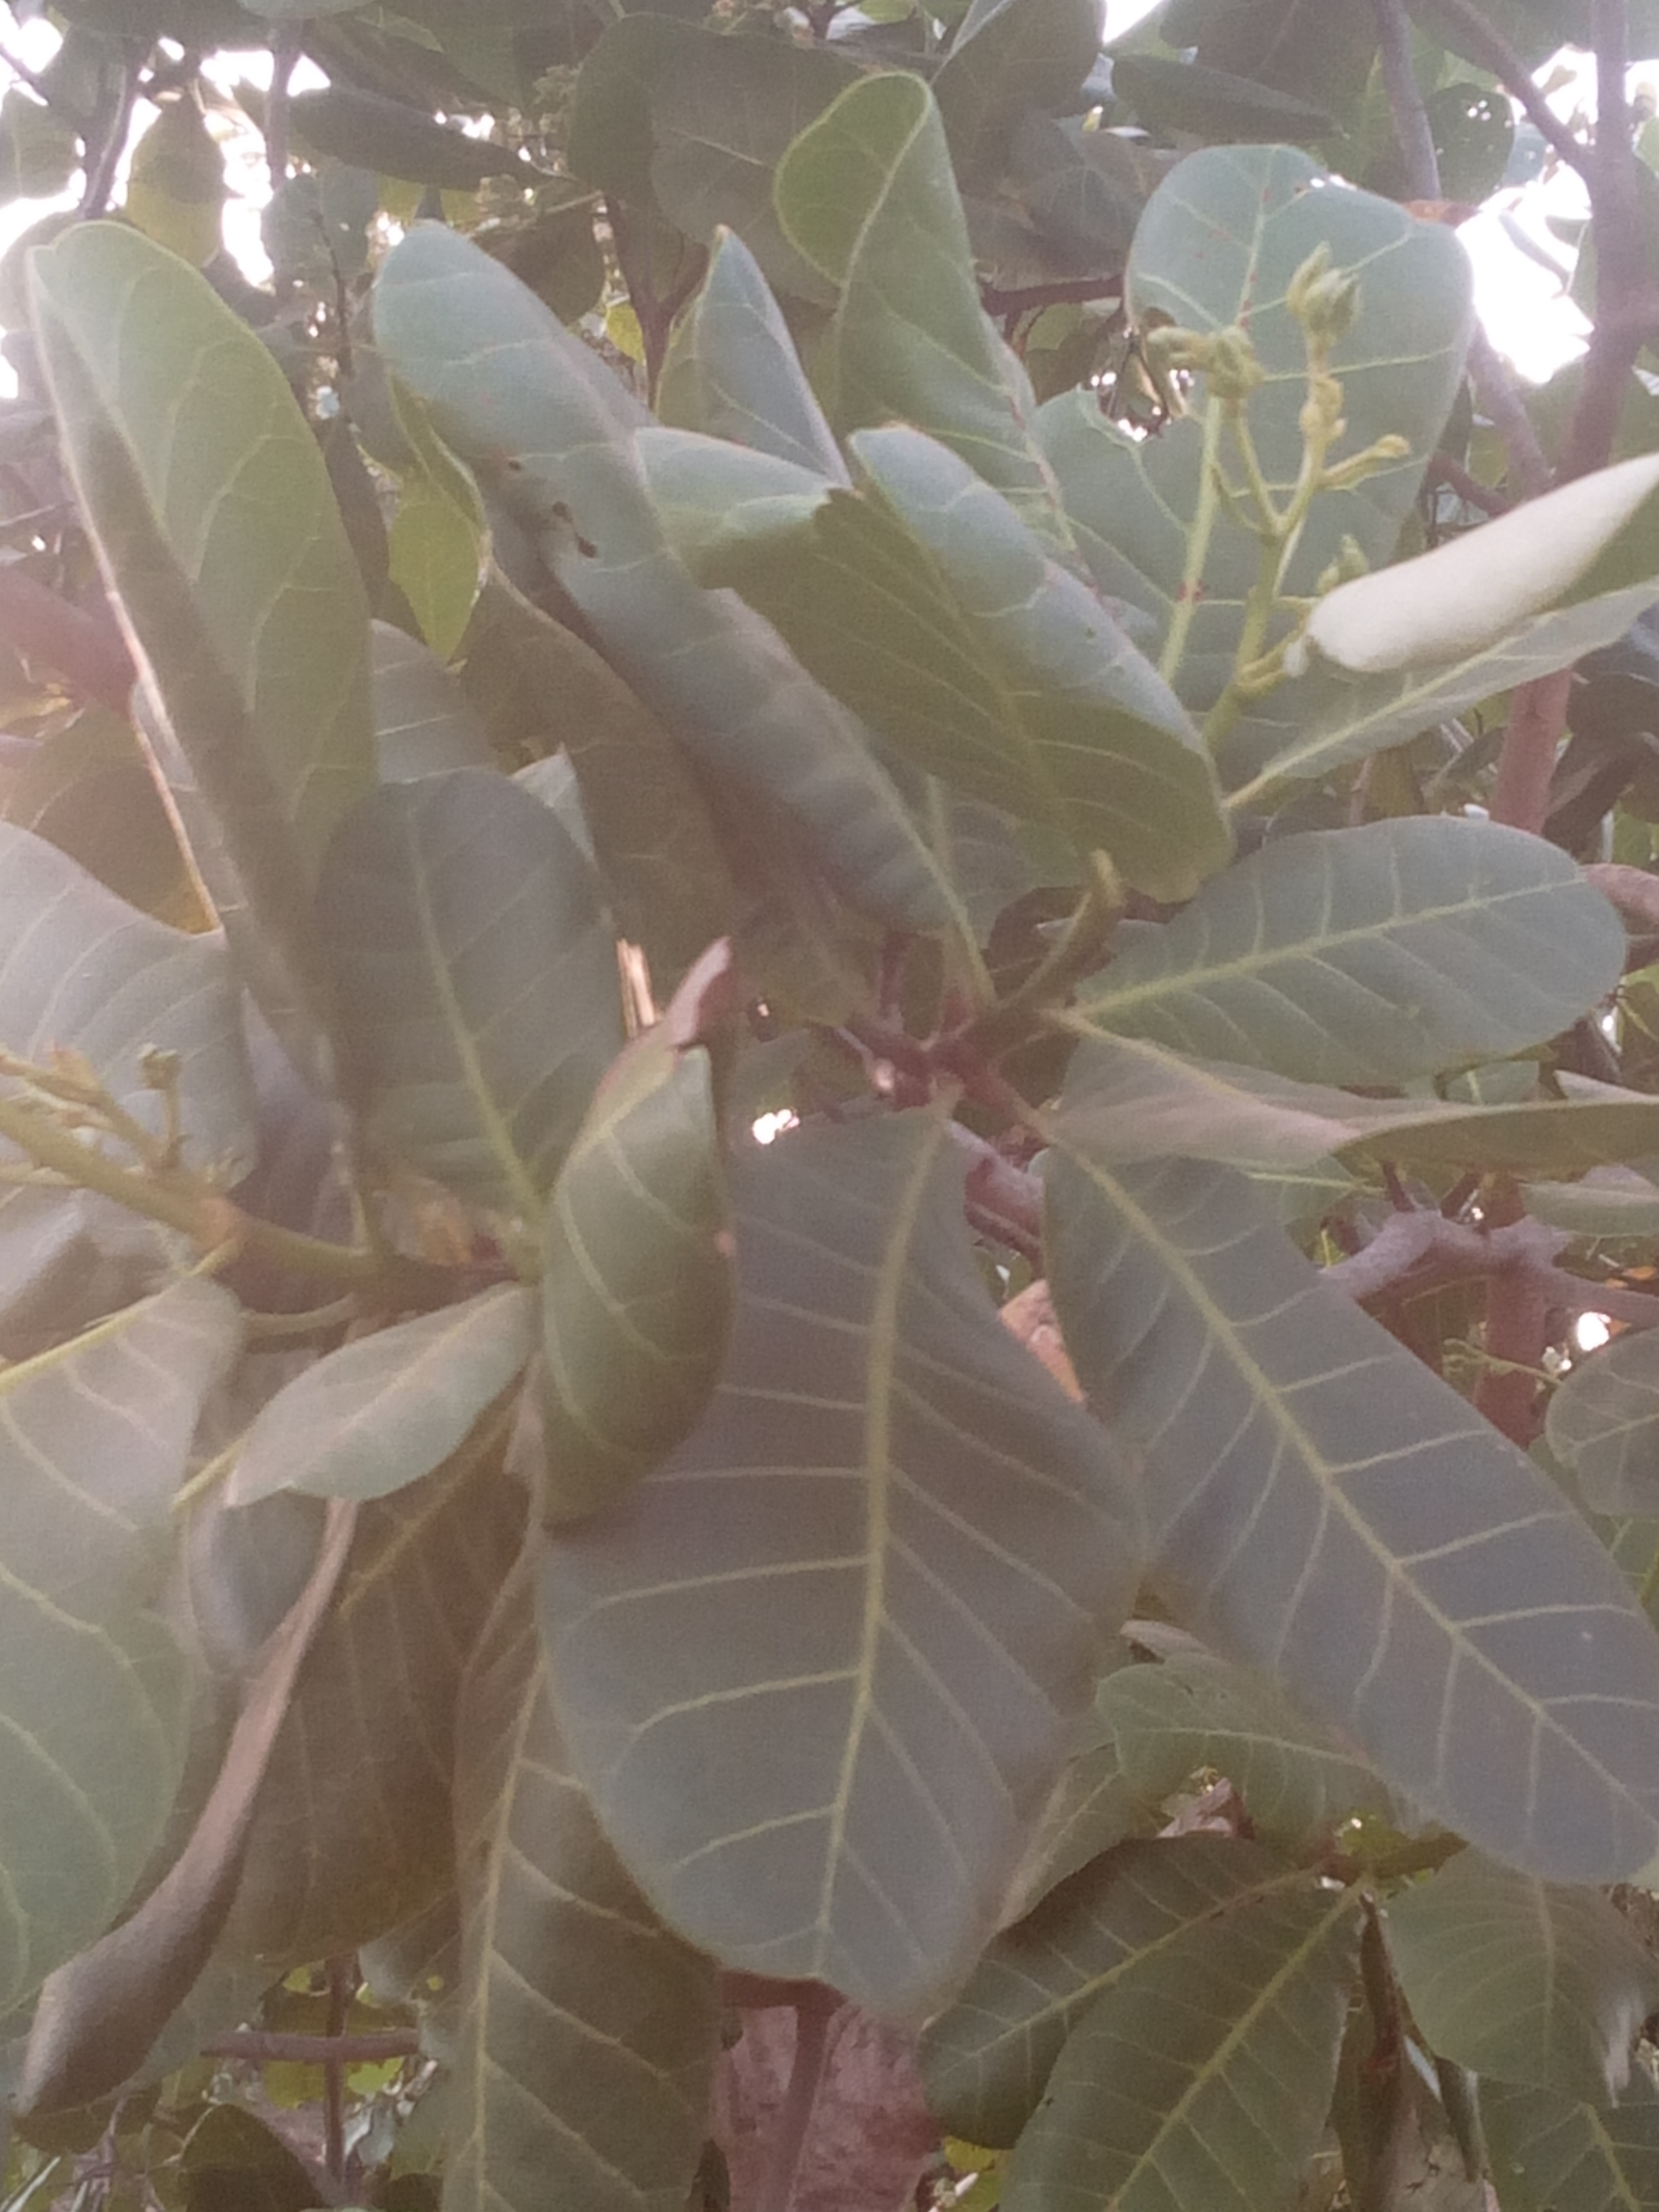Anoplonemis curvipes: (443, 371, 636, 601)
